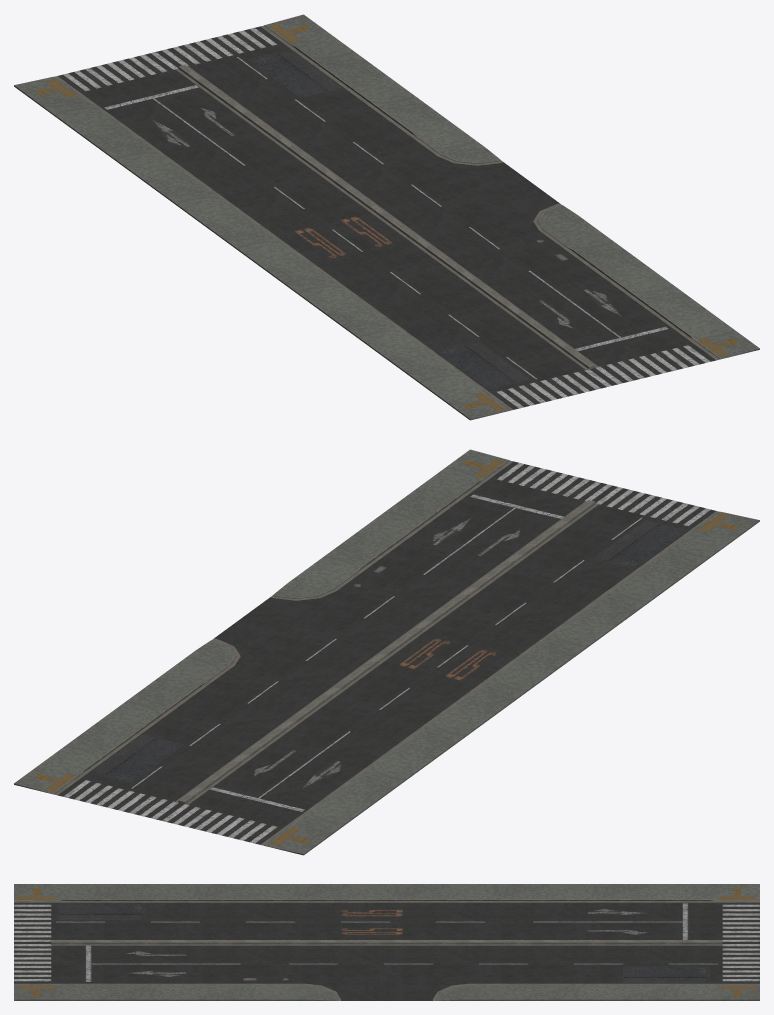
The model's file is jctlowRoad22mC_a.fbx.
The picture shows the model from 3 angles, top to bottom: view 1: azimuth 30°, elevation 25°; view 2: azimuth 150°, elevation 25°; view 3: azimuth 270°, elevation 25°; orthographic projection. The views are drawn at different scales.
Parts seen in each view (by area): view 1: jctlowRoad22mC_a; view 2: jctlowRoad22mC_a; view 3: jctlowRoad22mC_a.
Boxes of the visible parts, x1,y1,x2,y2 form: jctlowRoad22mC_a: [14, 14, 759, 420]; jctlowRoad22mC_a: [14, 449, 759, 855]; jctlowRoad22mC_a: [14, 884, 759, 1000].
Bounding box in the file's own units: 2200 × 15 × 6000.
4 materials, 4 textured.
